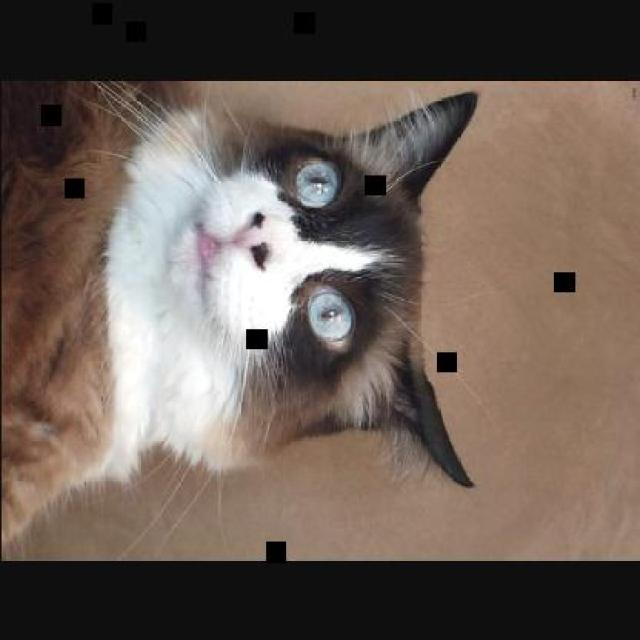unauthorized: (0, 76, 478, 558)
